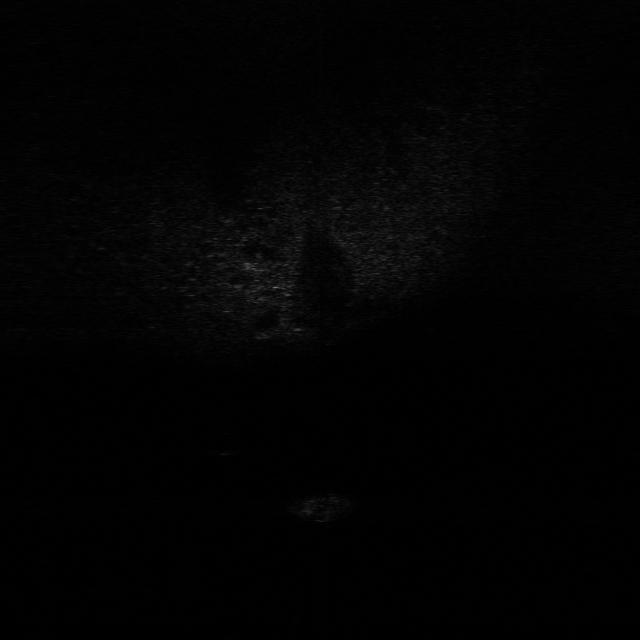ball: (210, 431, 240, 458)
circle cage: (287, 489, 363, 527)
